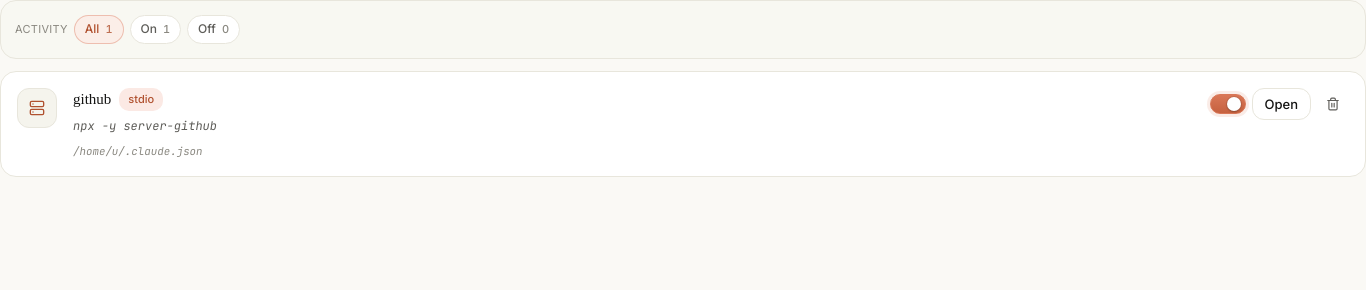
Test: McpTab › says a filter with nothing behind it is empty
Click the button "Off 0" at (214, 29), box [187,15,240,44]
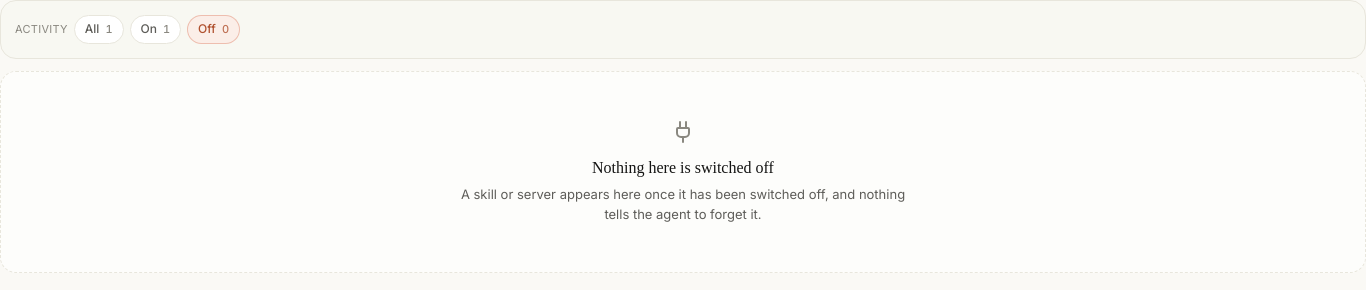
Now the text "Nothing here is switched off" is shown, box [592,159,774,176]
Now the button "github" is gone
